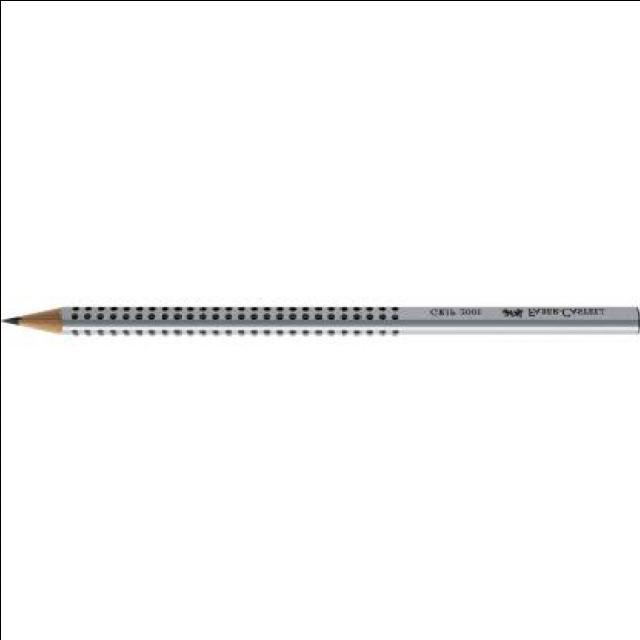pencil: (0, 292, 89, 350)
